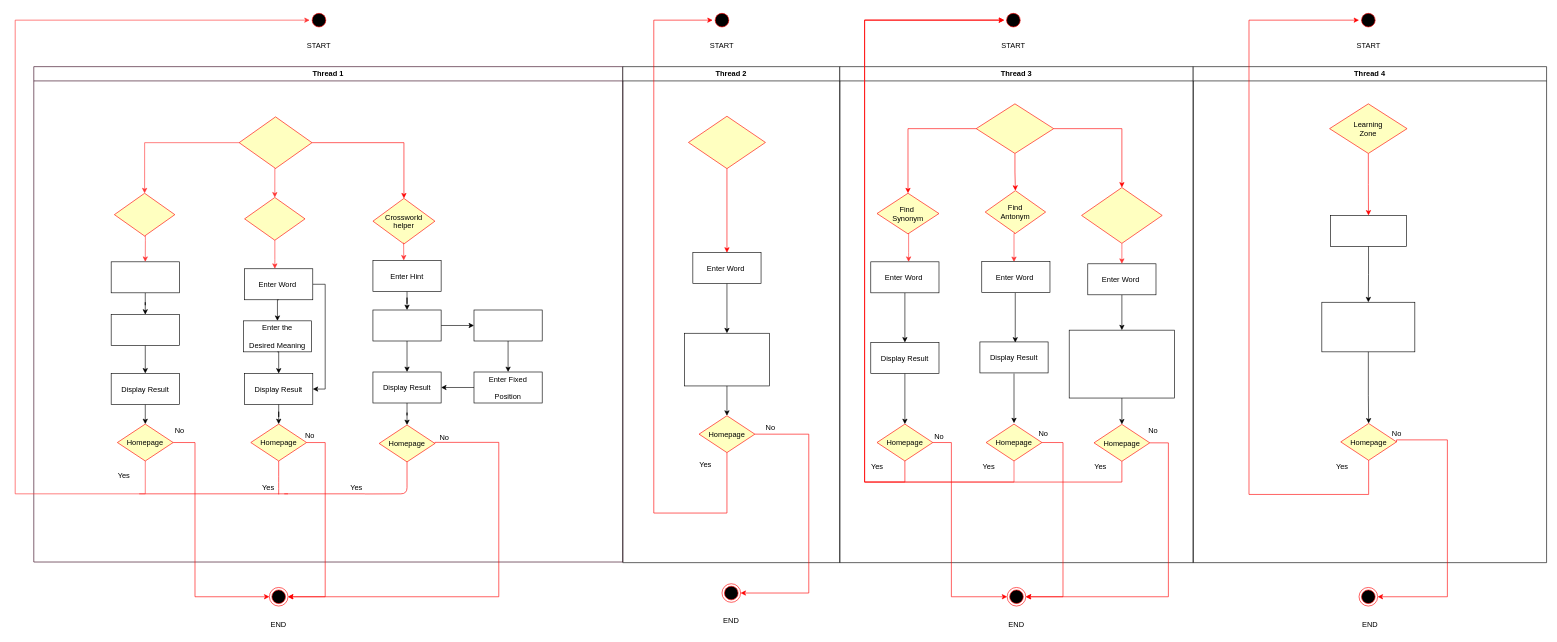
The diagram is 1557 pixels wide and 642 high, and some of its shapes have lost their labels. Here are the shapes that lost their labels. From the top down, the centre of each, then its label:
the point at 275,142: Find Zone
the point at 726,142: Understand Zone
the point at 1015,128: Knowledge Zone
the point at 144,214: Scrabble Helper
the point at 274,218: Find Rhyming
the point at 1121,215: Hypernym, Hyponym, Holonymn
the point at 1368,230: Display Smart word with meaning
the point at 145,277: Enter Word Fragment
the point at 145,330: Choose position and Enter length
the point at 406,325: Enter length
the point at 507,325: Enter Fixed Character
the point at 1368,327: Get input if the user knows it already or not
the point at 726,359: Display Results with Meaning and examples
the point at 1122,364: Display Result with Hypernym, Hyponyms and Holonym
